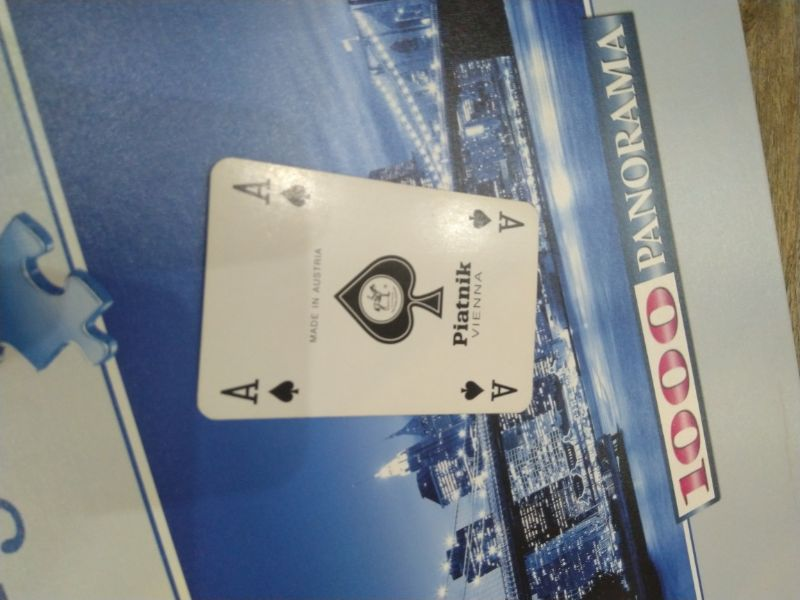As: (225, 175, 317, 212), (218, 376, 305, 408), (456, 374, 522, 404), (463, 204, 528, 234)
